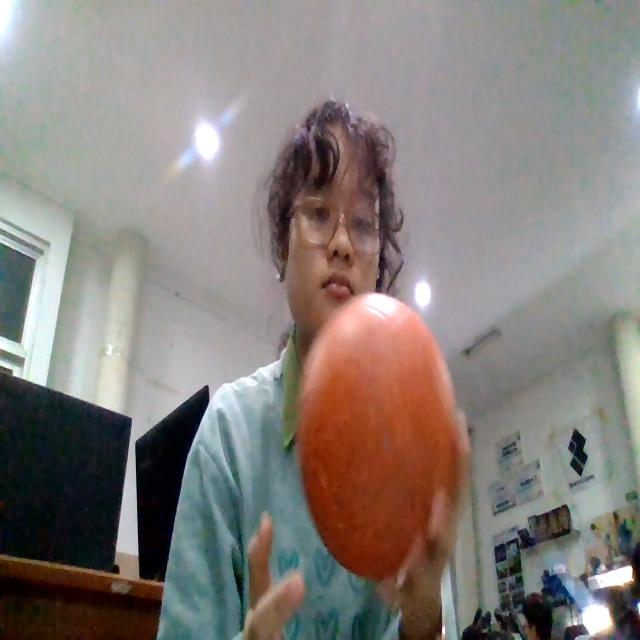ball: (295, 291, 462, 581)
